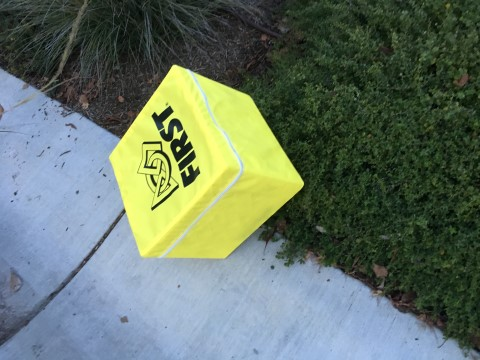cube: (106, 64, 305, 261)
